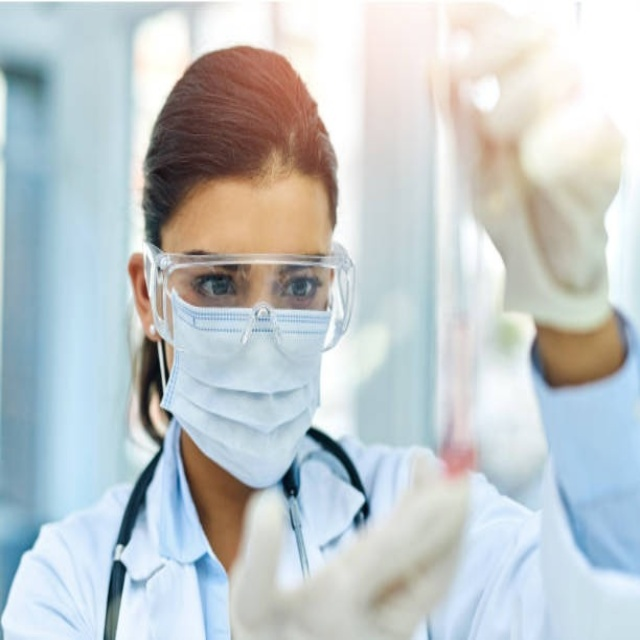Gafas: (142, 240, 357, 358)
Guantes: (434, 4, 625, 339), (228, 452, 469, 640)
Mascara: (157, 280, 332, 498)
